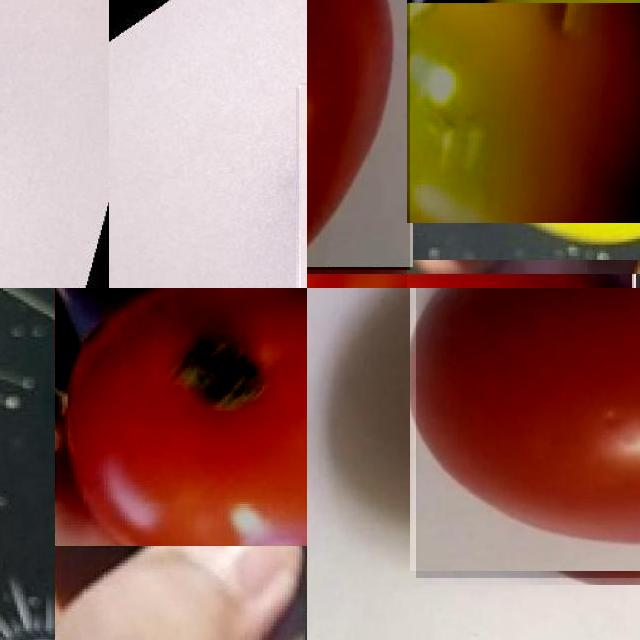0: (55, 288, 307, 546), (416, 288, 640, 578)
Fresh Tomato: (307, 0, 410, 270)
Rotten Tomato: (407, 0, 640, 223)
